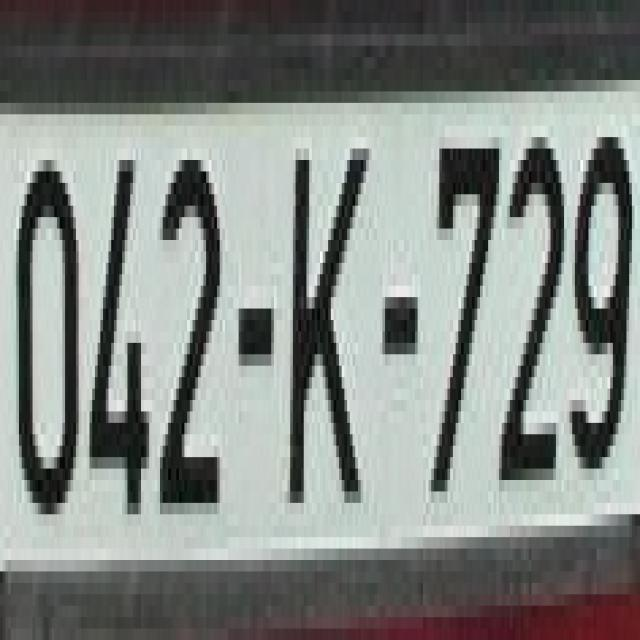0: (16, 143, 79, 531)
2: (157, 143, 225, 520), (500, 126, 560, 491)
4: (88, 143, 151, 531)
7: (428, 120, 496, 509)
9: (568, 120, 631, 486)
K: (283, 131, 365, 520)
